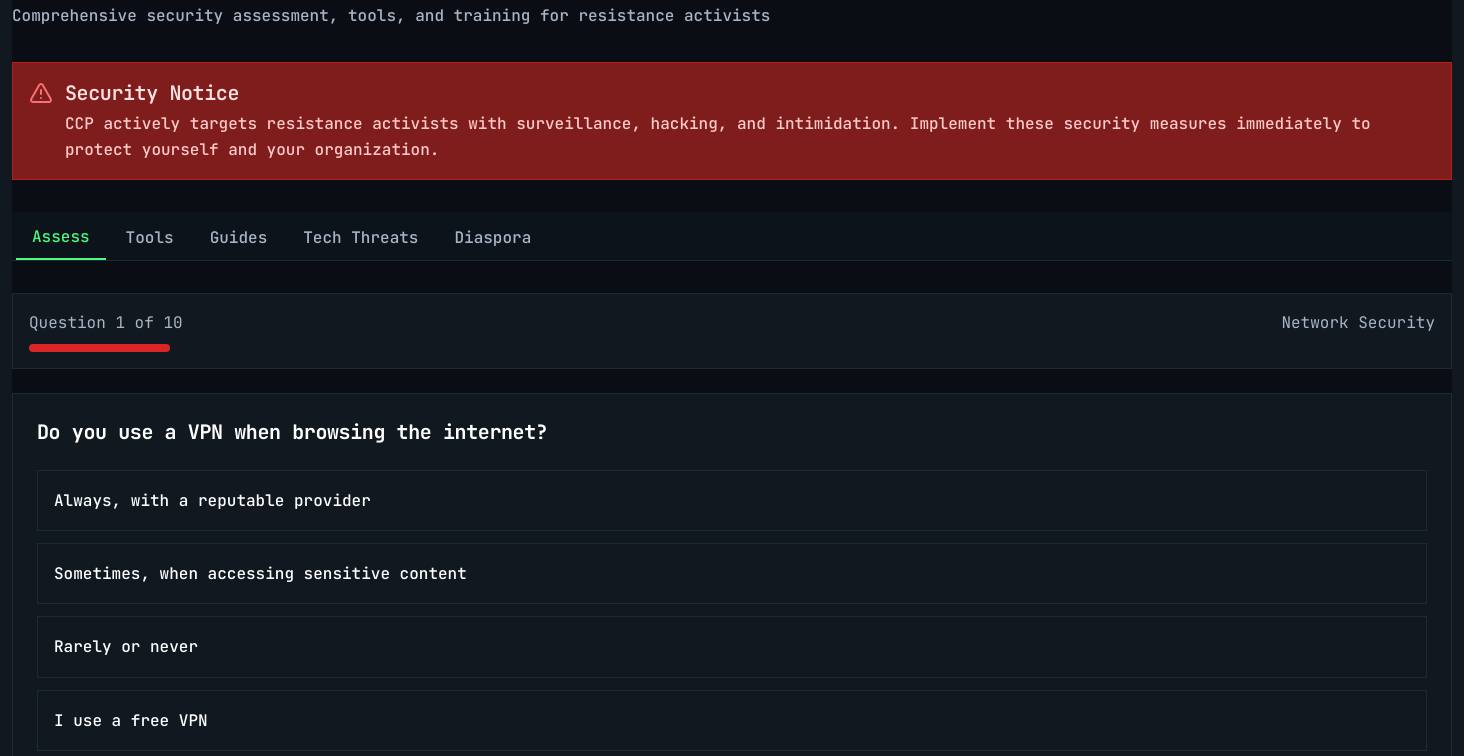
Test: SecurityCenter › shows WebRTC leak test section in Tools tab
Click the button "Tools" at [150, 238], box [110,216,190,260]
(page scrolled)
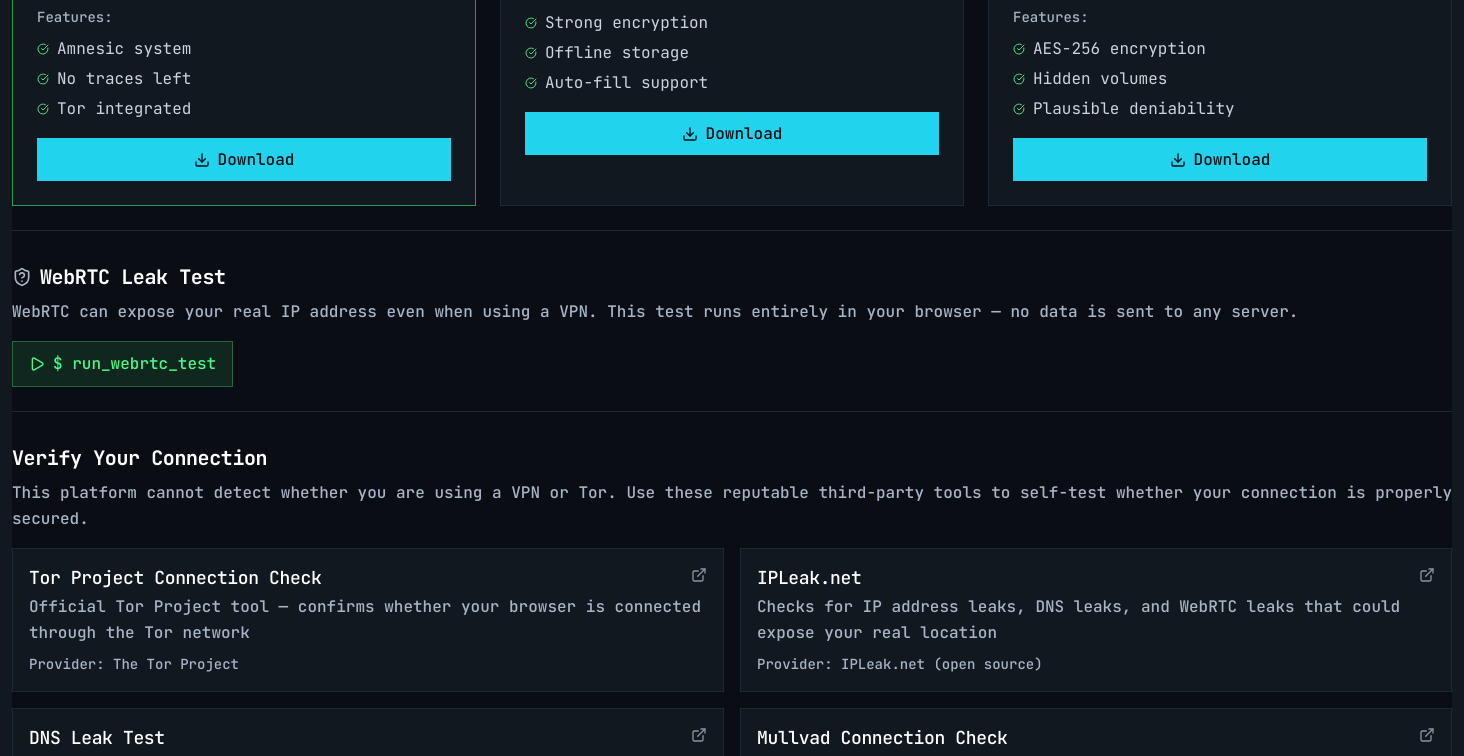
Check: the heading "WebRTC Leak Test" is shown, box [40,263,226,291]
Check: the button "$ run_webrtc_test" is shown, box [12,341,233,387]
